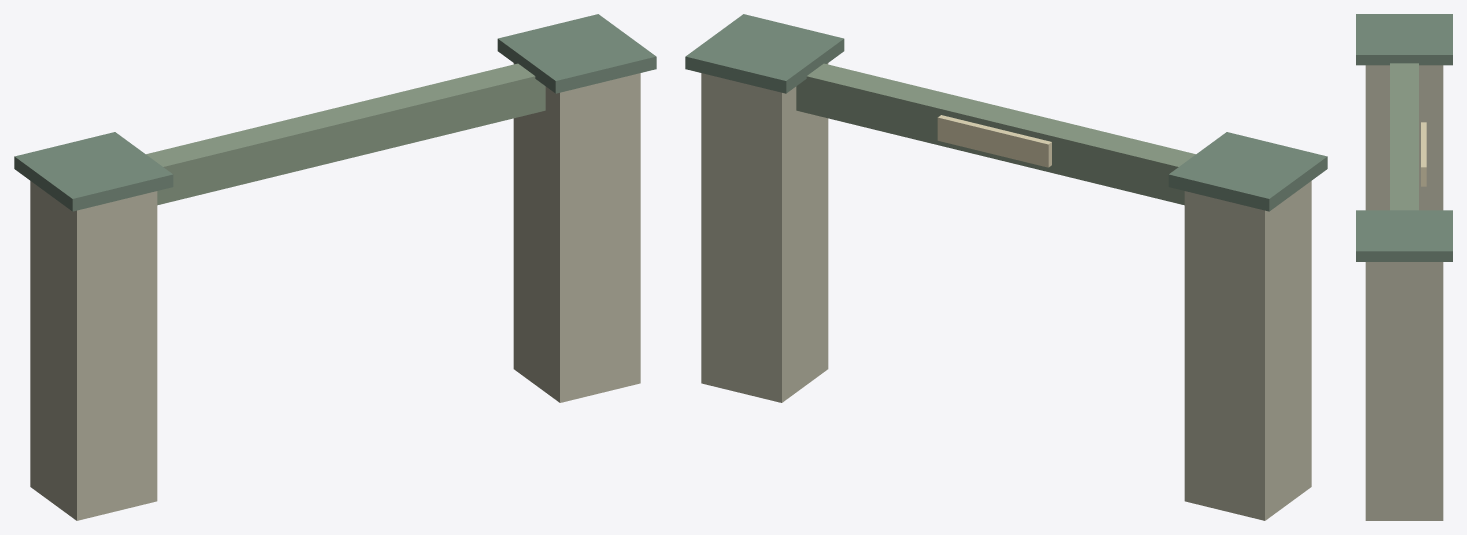
File: courtyard-entry.glb
3 views of the same model, side by side, from view 1: azimuth 30°, elevation 25°; view 2: azimuth 150°, elevation 25°; view 3: azimuth 270°, elevation 25° (orthographic). The views are drawn at different scales.
Parts seen in each view (by area): view 1: courtyard-entry; view 2: courtyard-entry; view 3: courtyard-entry.
Boxes of the visible parts, x1,y1,x2,y2 form: courtyard-entry: (14,14,656,520); courtyard-entry: (685,14,1327,520); courtyard-entry: (1356,14,1452,520).
Bounding box in the file's own units: 5.8 × 3.12 × 1.
